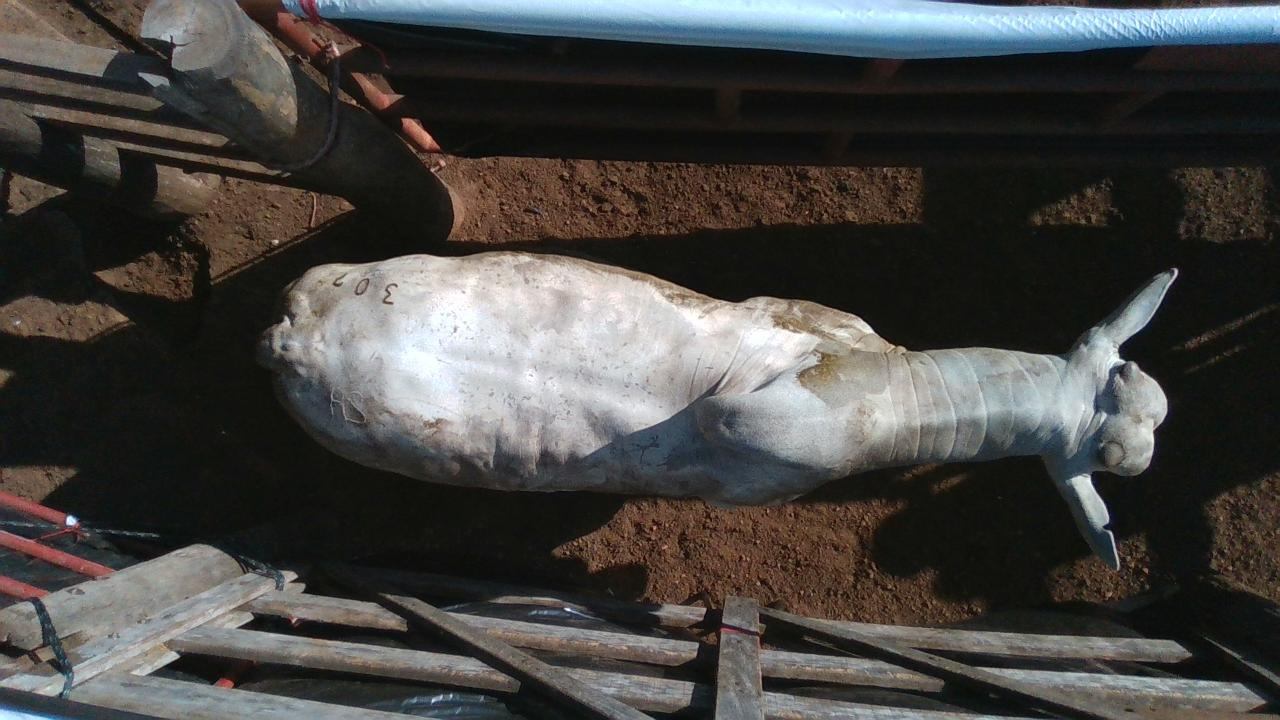cattle: (253, 247, 1180, 572)
